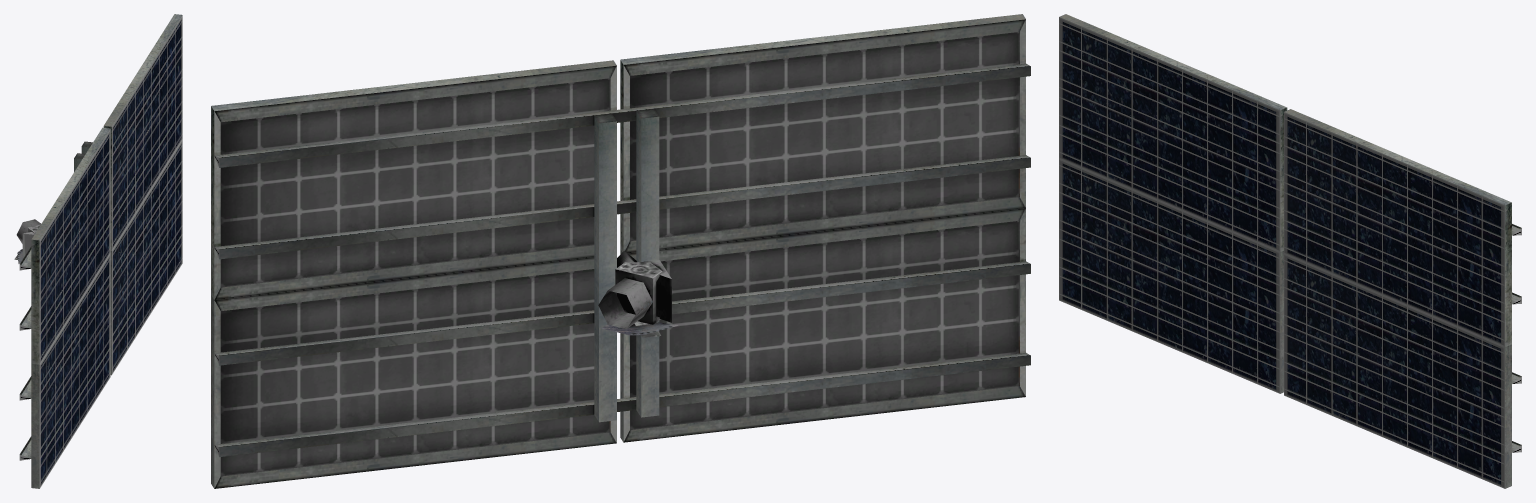
File: machinery_solar_panels_on_post_top_LOD1.obj
3 views of the same model, side by side, from view 1: azimuth 30°, elevation 25°; view 2: azimuth 150°, elevation 25°; view 3: azimuth 270°, elevation 25° (orthographic). The views are drawn at different scales.
Parts seen in each view (by area): view 1: mtl_machinery_solar_panels_on_post_metal; view 2: mtl_machinery_solar_panels_on_post_metal; view 3: mtl_machinery_solar_panels_on_post_metal.
Part boxes in pixels (bbox=[...]): mtl_machinery_solar_panels_on_post_metal: bbox=[14, 14, 182, 488]; mtl_machinery_solar_panels_on_post_metal: bbox=[211, 14, 1030, 488]; mtl_machinery_solar_panels_on_post_metal: bbox=[1059, 14, 1521, 488].
Bounding box in the file's own units: 481 × 325 × 481.
